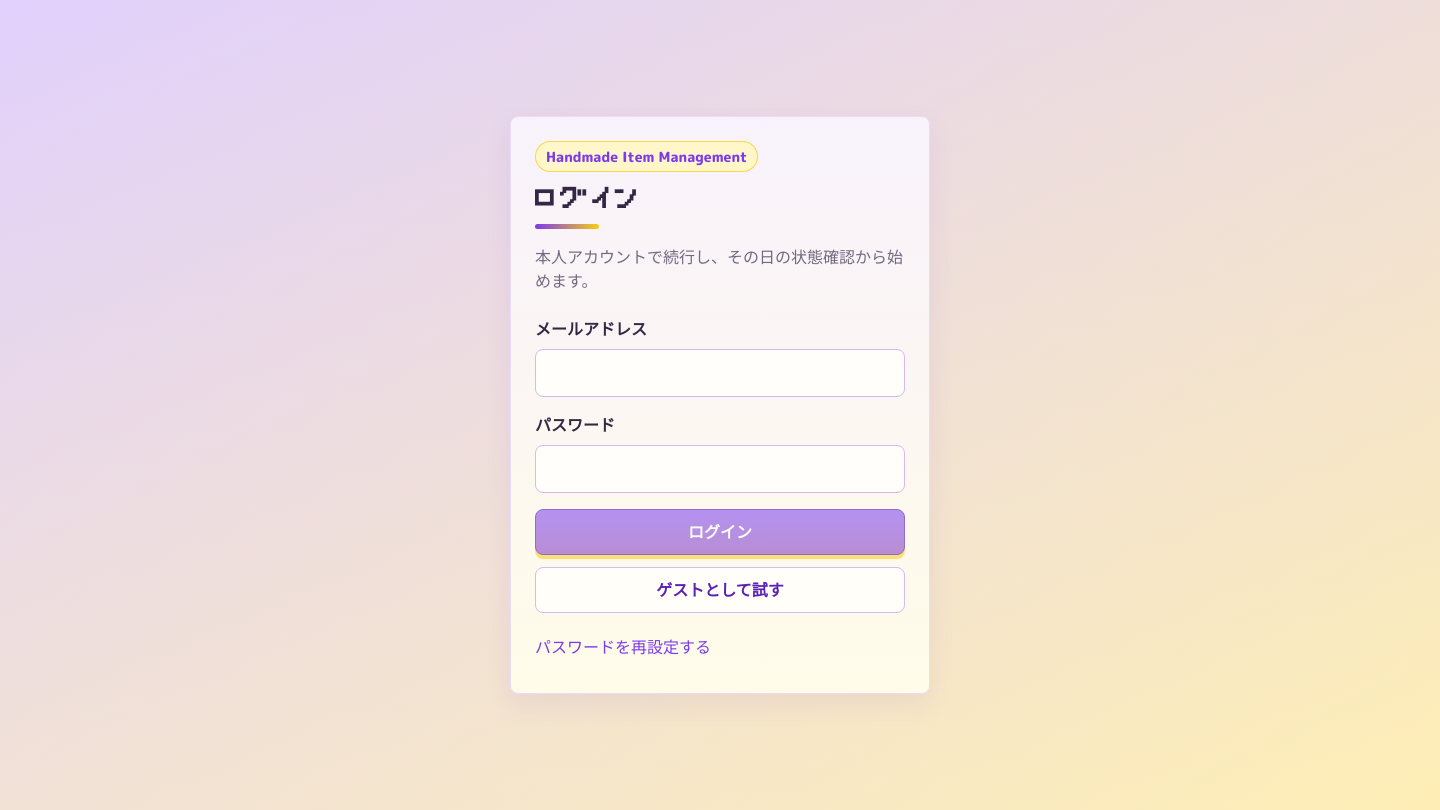
App routing › shows the guest login error when anonymous authentication fails
Click the button "ゲストとして試す" at {"x": 720, "y": 590}, box [535, 567, 905, 613]
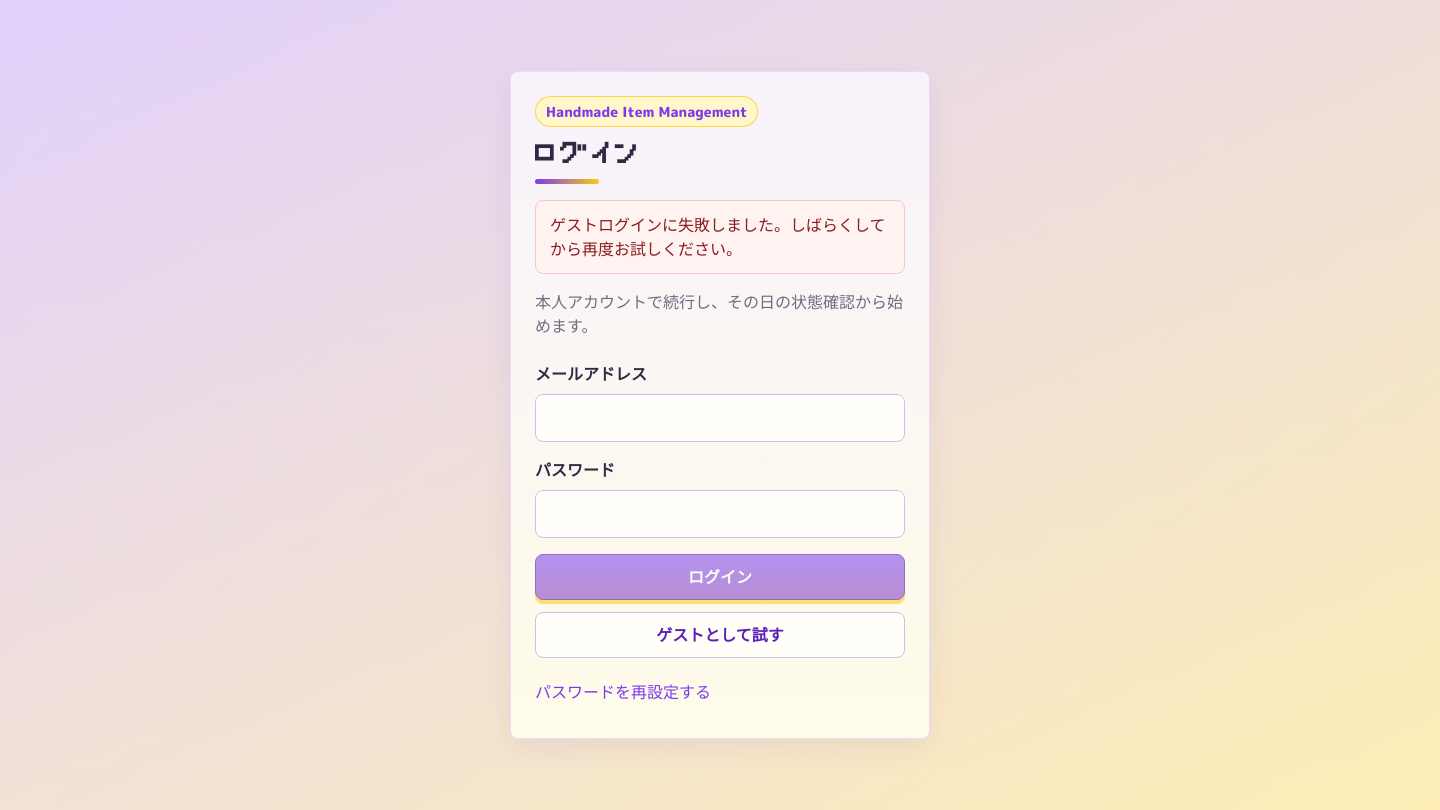
Check: the text "ゲストログインに失敗しました。しばらくしてから再度お試しください。" is shown, box [535, 200, 905, 274]
